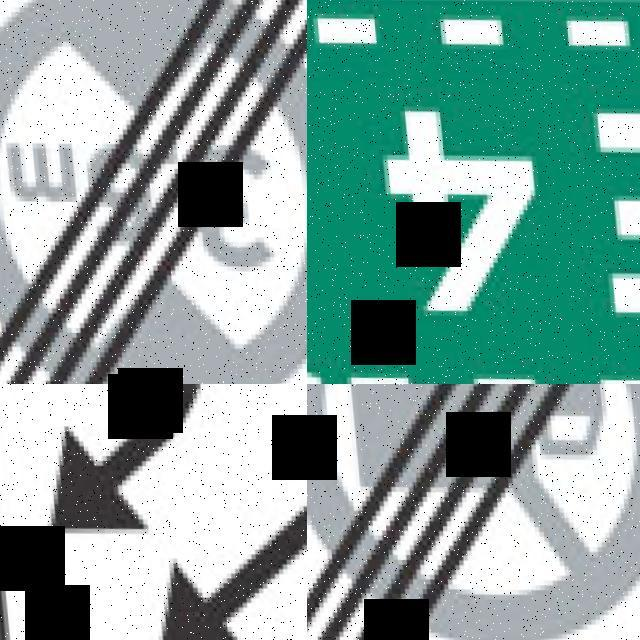111: (0, 0, 307, 384), (307, 384, 640, 640)
170: (0, 384, 307, 640)
Road number sign: (307, 0, 640, 384)
